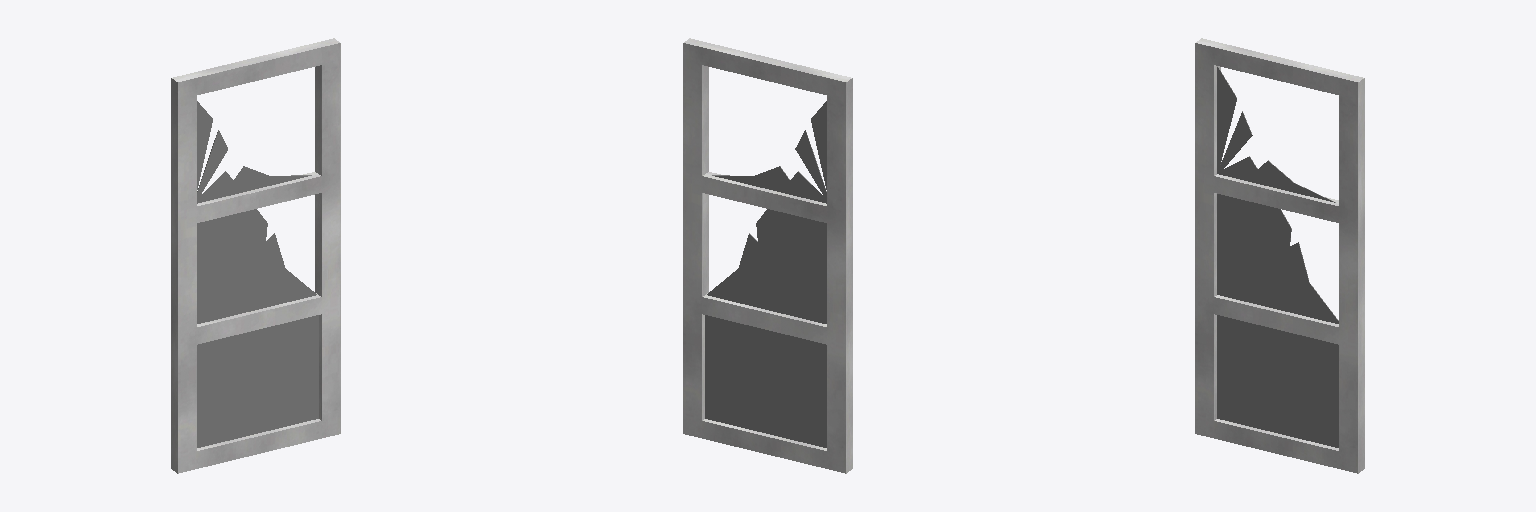
3 views of the same model, side by side, from view 1: azimuth 30°, elevation 25°; view 2: azimuth 150°, elevation 25°; view 3: azimuth 330°, elevation 25° (orthographic).
Parts seen in each view (by area): view 1: Window_03, Window_Glass04; view 2: Window_03, Window_Glass04; view 3: Window_03, Window_Glass04.
Part boxes in pixels (x1,y1,x2,y2): Window_03: (171,38,340,473); Window_Glass04: (197,101,318,447); Window_03: (683,38,852,473); Window_Glass04: (705,101,826,447); Window_03: (1195,38,1364,473); Window_Glass04: (1217,66,1338,447).
Size of the model in its own units: 53.46 by 123 by 3.56.
Materials: 2 (1 with a texture image).